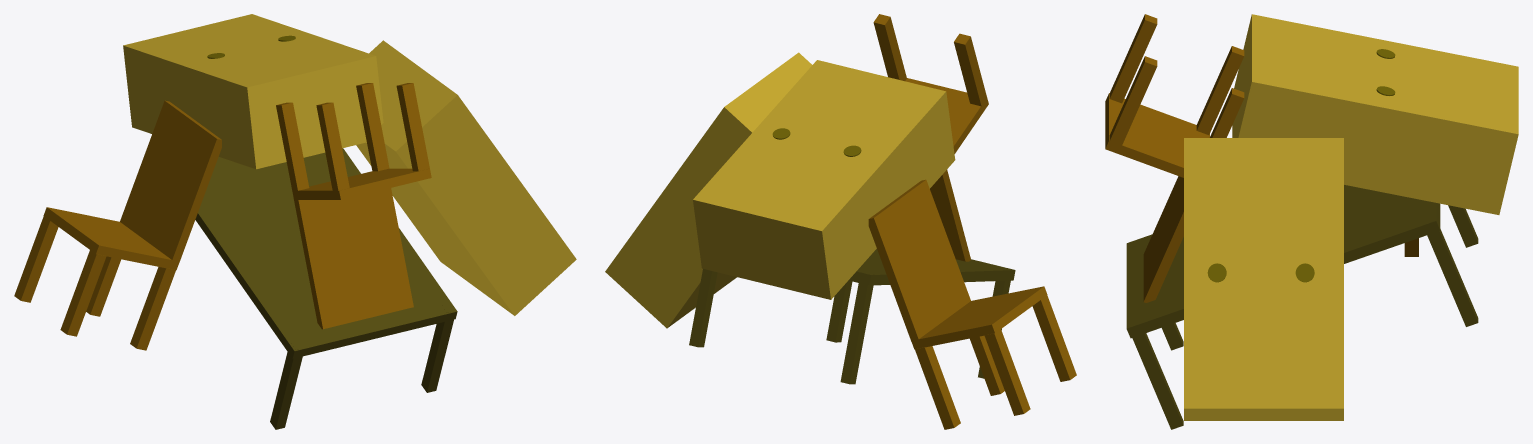
The model's file is Barricade.fbx.
The picture shows the model from 3 angles, left to right: view 1: azimuth 30°, elevation 25°; view 2: azimuth 150°, elevation 25°; view 3: azimuth 270°, elevation 25°; orthographic projection. The views are drawn at different scales.
Visible parts, largest first — view 1: Cube, Cube.002, Cube.006, Cube.005, Cube.001; view 2: Cube, Cube.001, Cube.002, Cube.006, Cube.005; view 3: Cube.002, Cube, Cube.006, Cube.005.
Boxes of the visible parts, x1,y1,x2,y2 form: Cube: (123, 14, 383, 169); Cube.002: (356, 40, 576, 315); Cube.006: (195, 148, 457, 429); Cube.005: (276, 83, 431, 329); Cube.001: (14, 100, 221, 350); Cube: (693, 60, 955, 299); Cube.001: (868, 179, 1076, 429); Cube.002: (605, 52, 811, 328); Cube.006: (689, 249, 1015, 384); Cube.005: (873, 14, 988, 261); Cube.002: (1184, 138, 1343, 420); Cube: (1232, 14, 1518, 214); Cube.006: (1126, 185, 1478, 429); Cube.005: (1105, 14, 1244, 302).
Size of the model in its own units: 1936 by 1328 by 1423.
